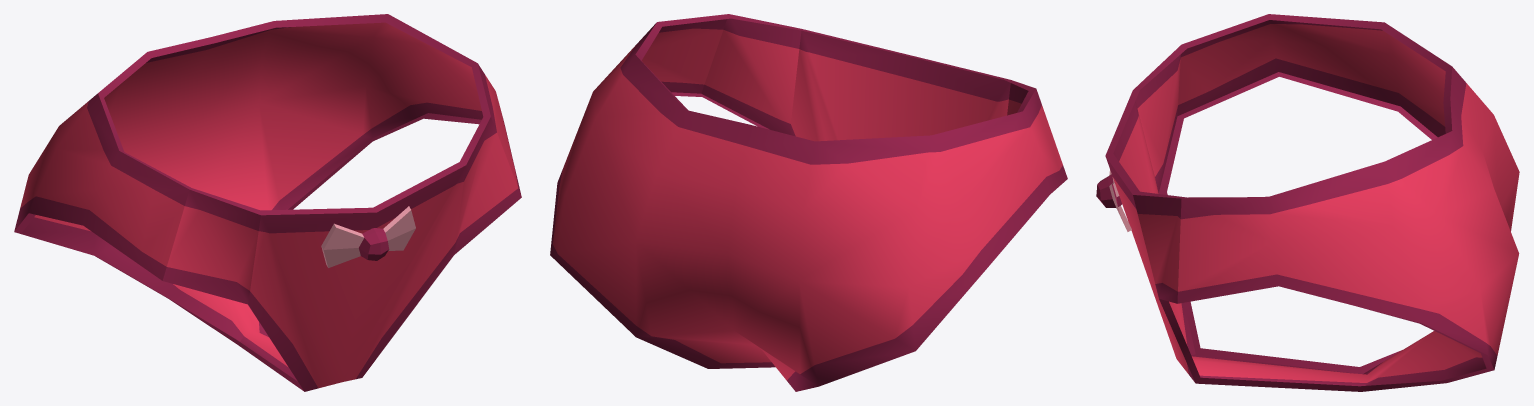
Rendered from Bikini02.fbx.
The picture shows the model from 3 angles, left to right: view 1: azimuth 30°, elevation 25°; view 2: azimuth 150°, elevation 25°; view 3: azimuth 270°, elevation 25°; orthographic projection. The views are drawn at different scales.
Parts seen in each view (by area): view 1: Bikini02; view 2: Bikini02; view 3: Bikini02.
Part boxes in pixels (x1=…): Bikini02: x1=14, y1=14, x2=521, y2=391; Bikini02: x1=550, y1=14, x2=1067, y2=391; Bikini02: x1=1096, y1=14, x2=1519, y2=391.
Size of the model in its own units: 33.48 by 21.53 by 27.9.
